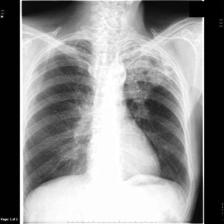tuberculosis: (23, 31, 195, 207)
